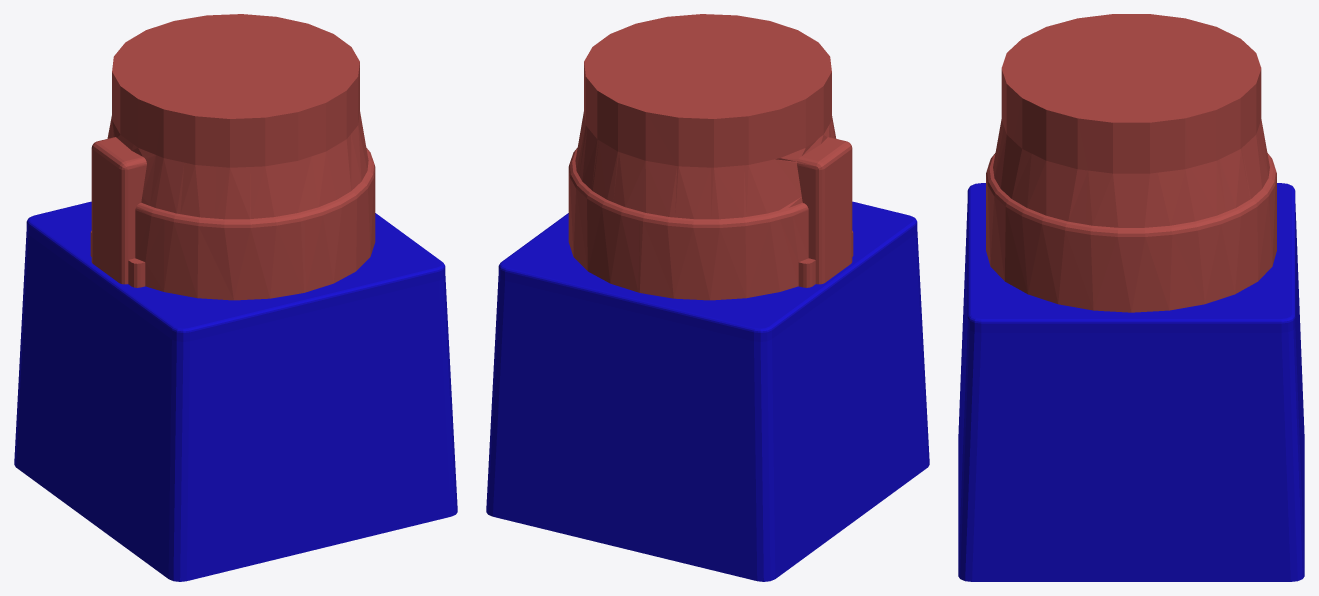
File: ls2000_laser.dae
The picture shows the model from 3 angles, left to right: view 1: azimuth 30°, elevation 25°; view 2: azimuth 150°, elevation 25°; view 3: azimuth 270°, elevation 25°; orthographic projection. The views are drawn at different scales.
Parts seen in each view (by area): view 1: Mesh_001; view 2: Mesh_001; view 3: Mesh_001.
Boxes of the visible parts, left/top/right/bottom form: Mesh_001: left=14, top=14, right=457, bottom=581; Mesh_001: left=486, top=14, right=929, bottom=581; Mesh_001: left=958, top=14, right=1304, bottom=581.
Size of the model in its own units: 0.05 by 0.05 by 0.0701.
